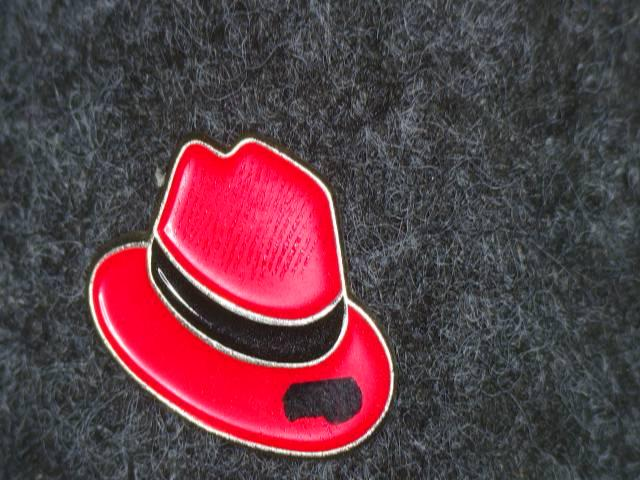Red-Hat: (39, 109, 452, 469)
Scratch: (271, 370, 368, 430)
